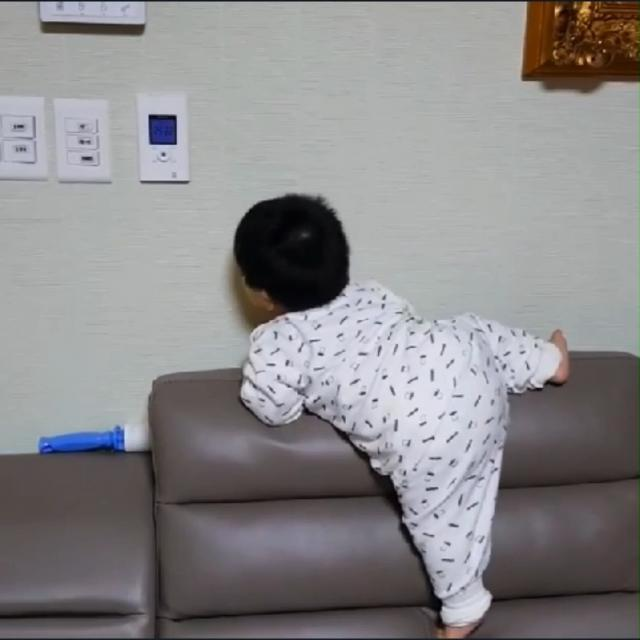child: (233, 195, 570, 640)
